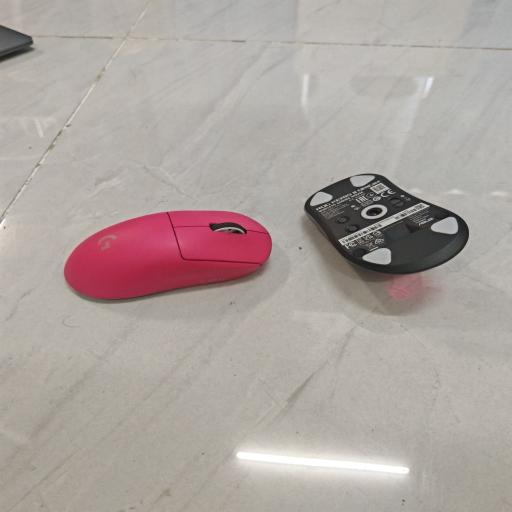mouse: (64, 210, 272, 298), (304, 174, 468, 274)
